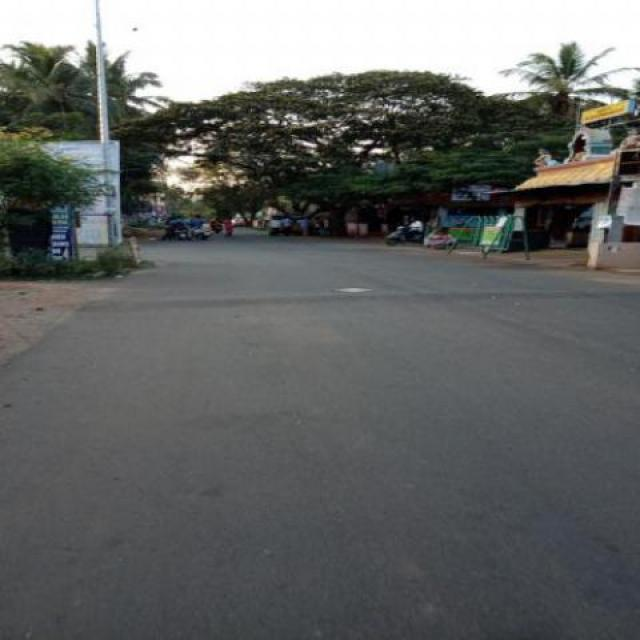Unmarked Bump: (72, 285, 638, 312)
